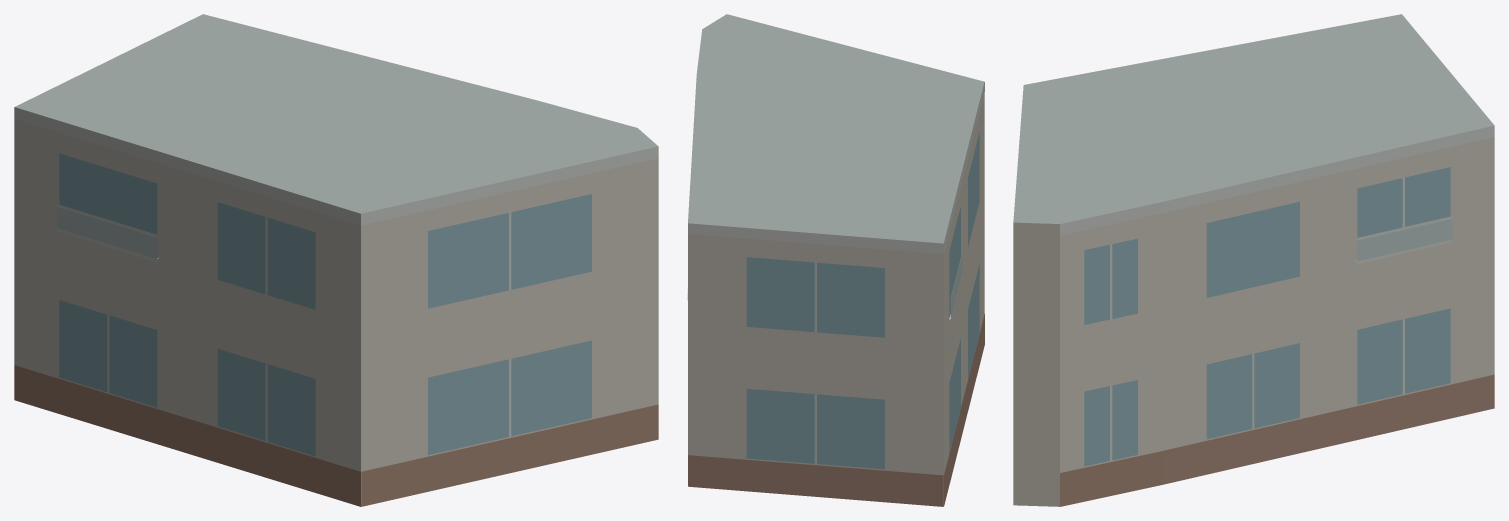
The model's file is survey-upis-33004403.glb.
The picture shows the model from 3 angles, left to right: view 1: azimuth 30°, elevation 25°; view 2: azimuth 150°, elevation 25°; view 3: azimuth 270°, elevation 25°; orthographic projection. The views are drawn at different scales.
Visible parts, largest first — view 1: survey-upis-33004403.tmp; view 2: survey-upis-33004403.tmp; view 3: survey-upis-33004403.tmp.
Boxes of the visible parts, <box> form: survey-upis-33004403.tmp: <box>14,14,658,506</box>; survey-upis-33004403.tmp: <box>687,14,984,506</box>; survey-upis-33004403.tmp: <box>1013,14,1494,506</box>.
Size of the model in its own units: 9.73 by 6.1 by 9.42.
